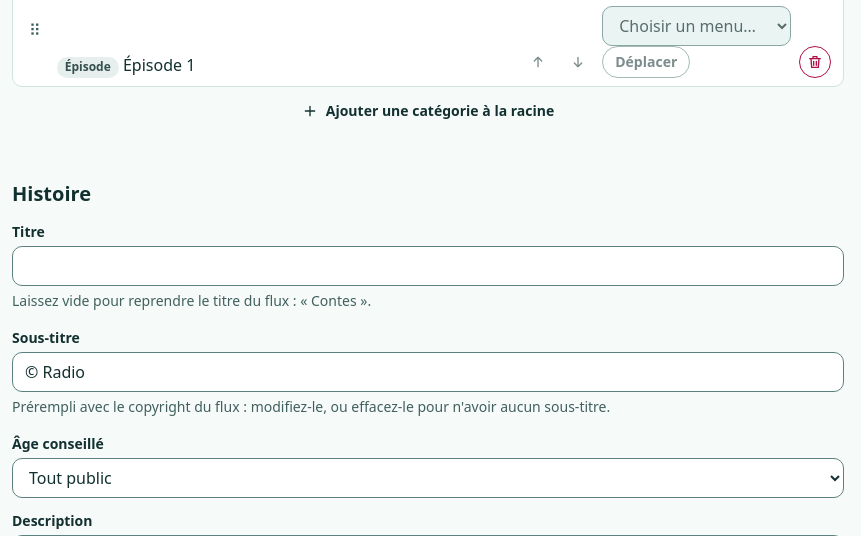
sous-titre : prérempli par le copyright du flux unique, effaçable (D16)
(page scrolled)
Clear the field labelled "Sous-titre" at (428, 372), box left=12, top=352, right=844, bottom=392
(page scrolled)
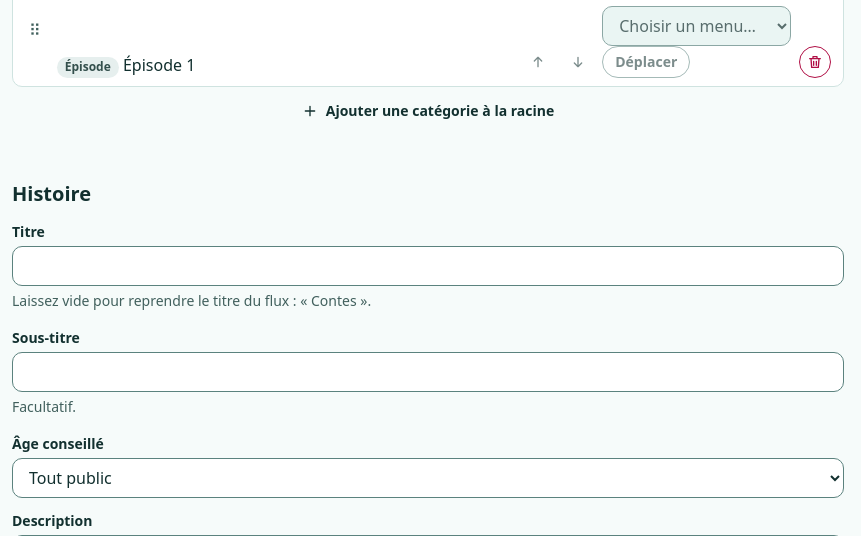
Now the text "Prérempli" is gone
